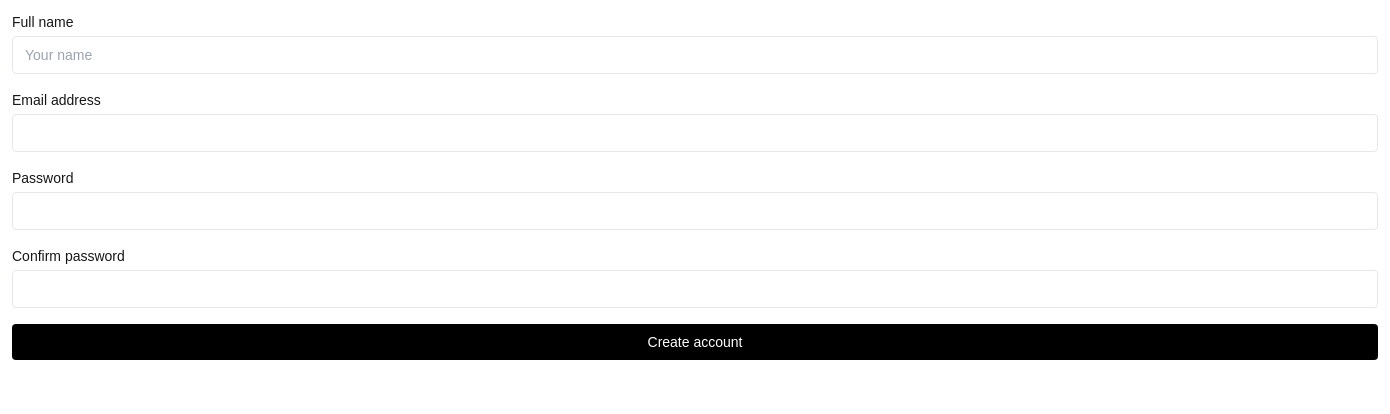
Test case: RegisterForm › Validation › shows error when passwords do not match
This screenshot has width=1390, height=414.
In the field labelled "Full name": (695, 55) [12,36,1378,74], type "Pete"
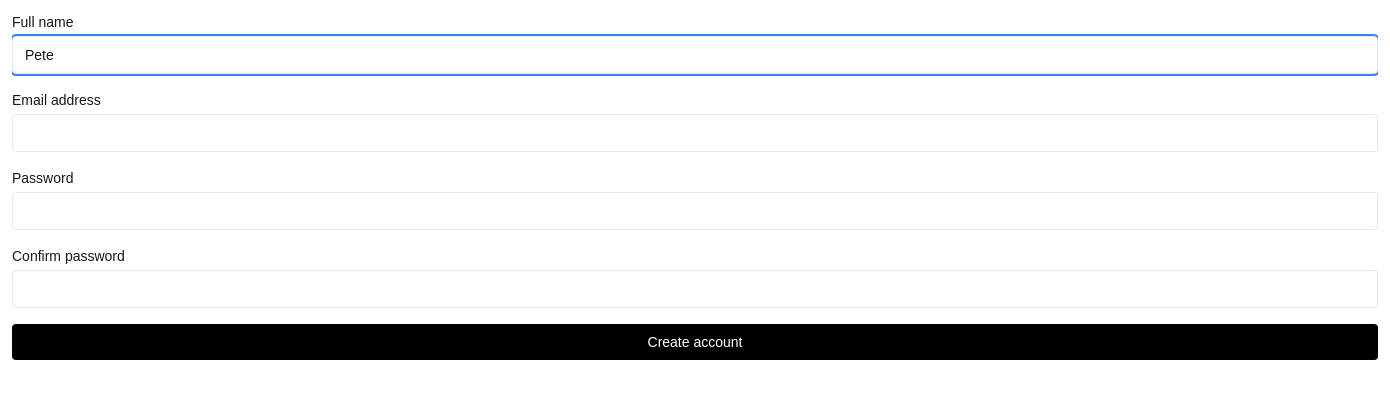
In the field labelled "Email address": (695, 133) [12,114,1378,152], type "a@b.com"
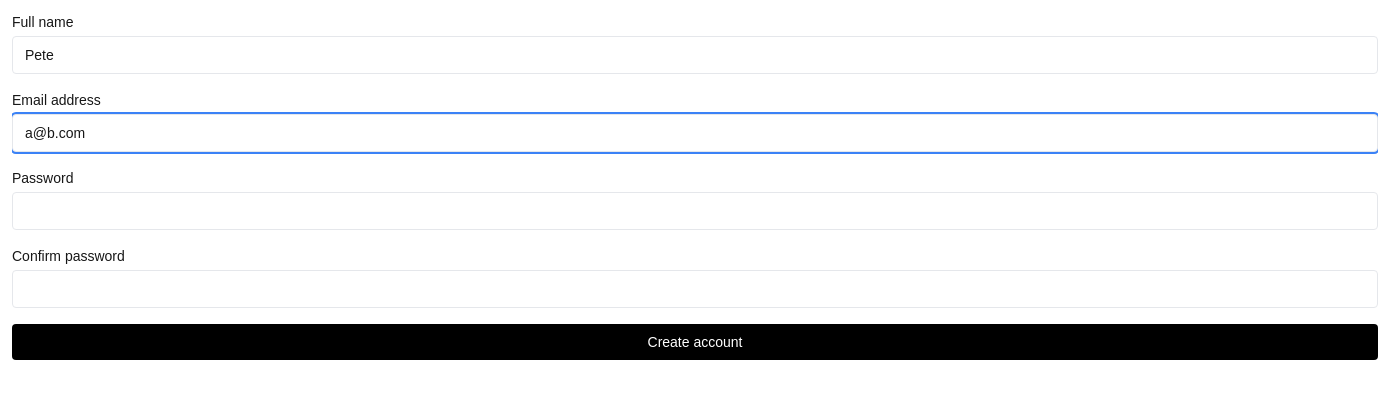
In the password field labelled "Password": (695, 211) [12,192,1378,230], type "Password1"
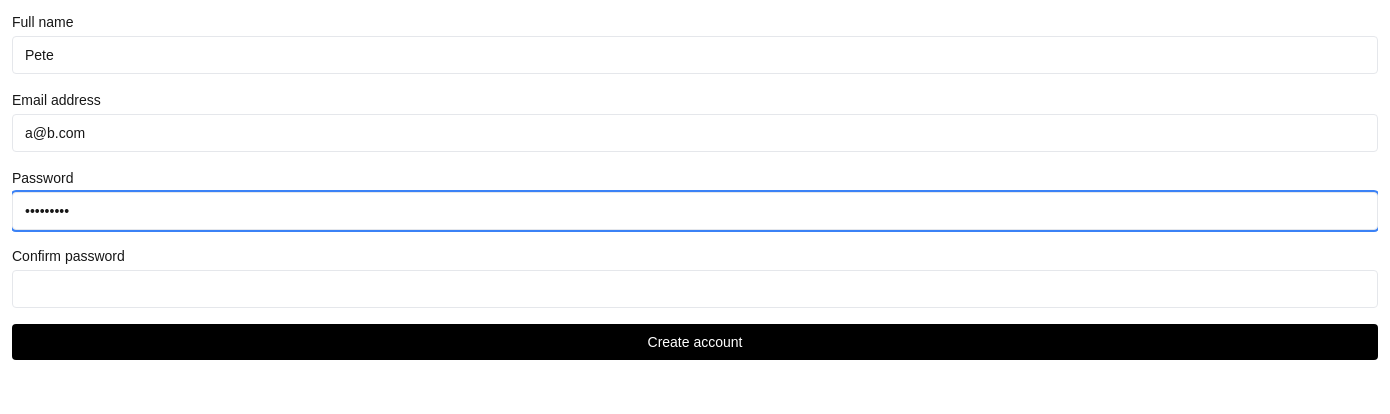
In the password field labelled "Confirm password": (695, 289) [12,270,1378,308], type "Password2"
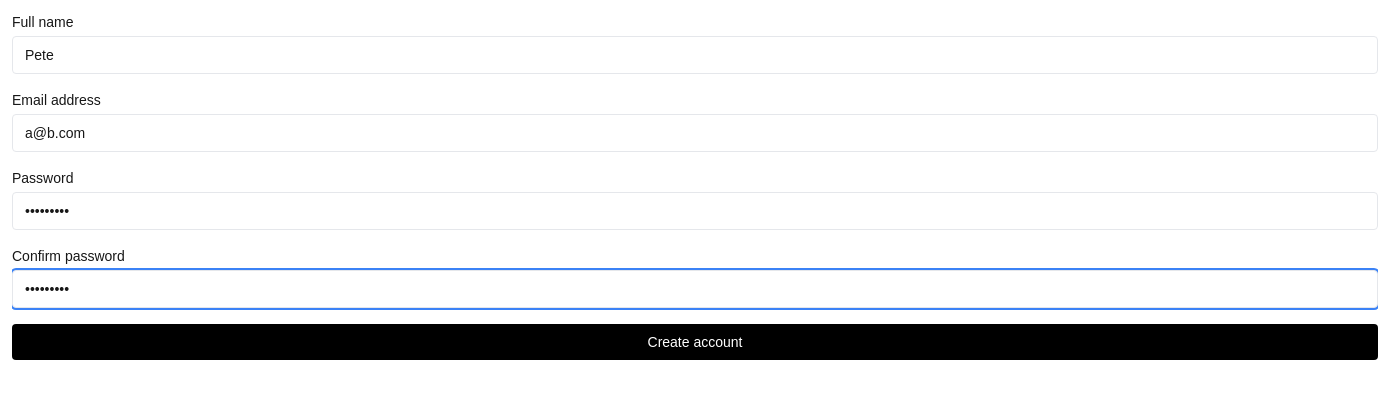
Click the button "Create account": (695, 342) [12,324,1378,360]
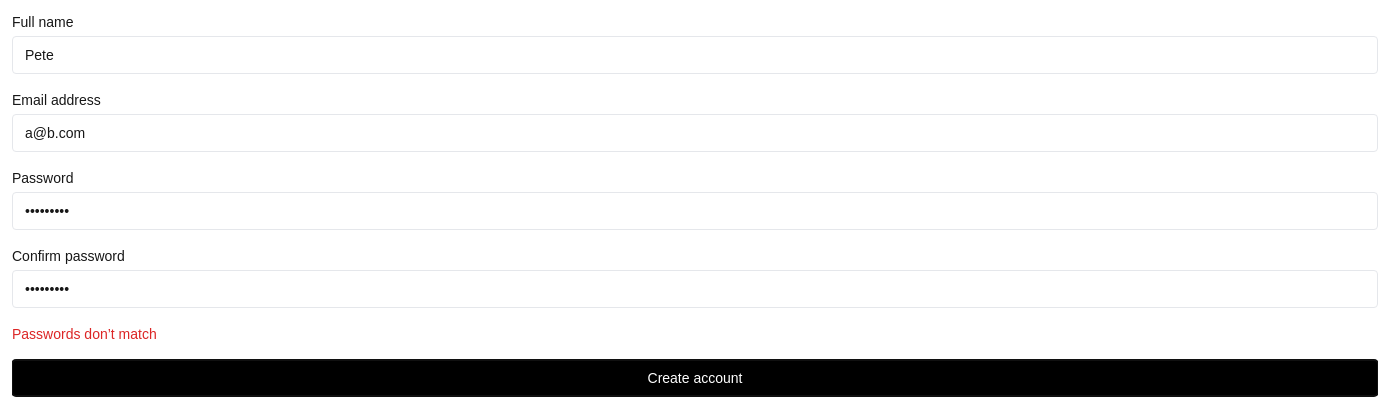
Expected: the text "Passwords don’t match" is shown, [12,326,157,342]
